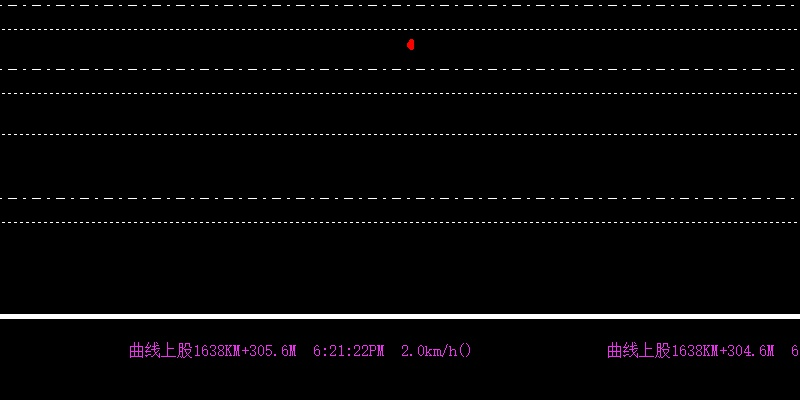face_down: (405, 25, 416, 52)
